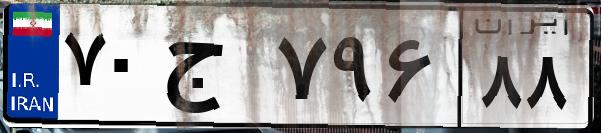0: (110, 28, 158, 98)
6: (385, 28, 445, 110)
7: (270, 28, 330, 110), (57, 26, 110, 100)
8: (475, 38, 525, 113), (525, 38, 570, 115)
9: (330, 28, 385, 110)
ج: (158, 20, 270, 120)
